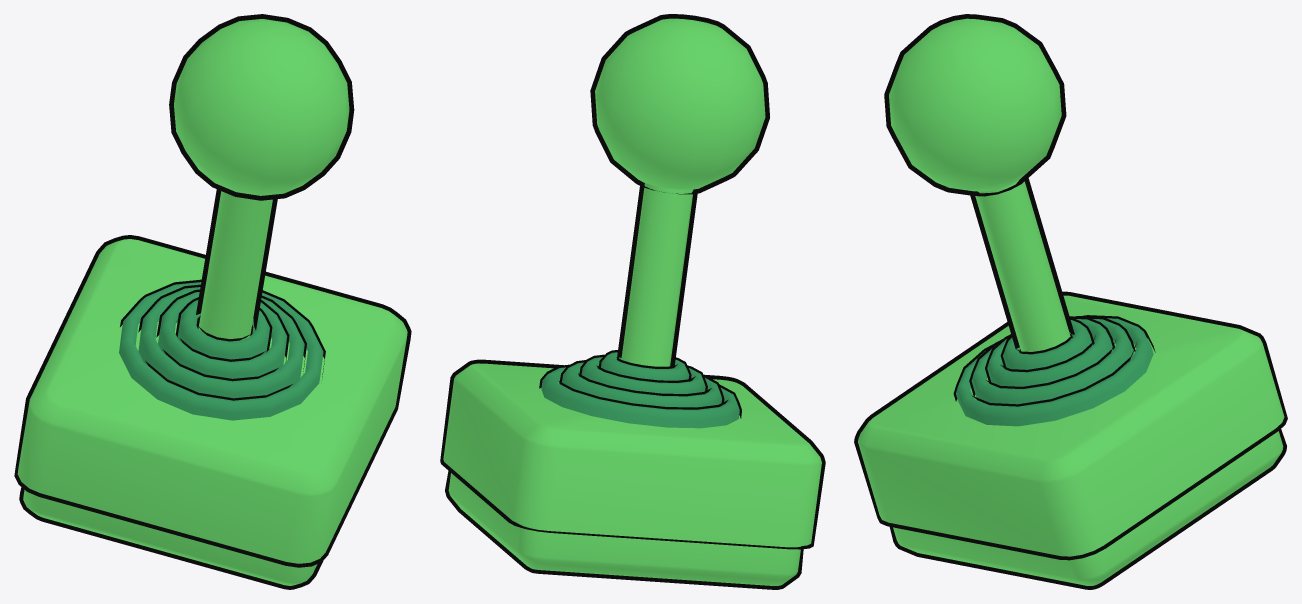
The model's file is cdm_02.glb.
The picture shows the model from 3 angles, left to right: view 1: azimuth 30°, elevation 25°; view 2: azimuth 150°, elevation 25°; view 3: azimuth 270°, elevation 25°; orthographic projection. The views are drawn at different scales.
Parts seen in each view (by area): view 1: base, joystick, gasket, base_outline, joystick_outline, gasket_outline; view 2: base, joystick, gasket, base_outline, joystick_outline, gasket_outline; view 3: base, joystick, gasket, base_outline, joystick_outline, gasket_outline.
Boxes of the visible parts, x1,y1,x2,y2 form: base: (17,239,407,585); joystick: (174,19,349,340); gasket: (119,282,323,420); base_outline: (14,235,411,589); joystick_outline: (169,14,354,335); gasket_outline: (120,279,325,400); base: (443,363,821,585); joystick: (595,18,765,366); gasket: (541,352,739,428); base_outline: (440,359,825,589); joystick_outline: (590,14,769,366); gasket_outline: (539,350,741,418); base: (858,295,1284,585); joystick: (889,18,1071,351); gasket: (956,318,1153,426); base_outline: (854,291,1287,589); joystick_outline: (884,14,1074,353); gasket_outline: (953,315,1155,406).
Bounding box in the file's own units: 0.8909 × 1.23 × 0.9058.
